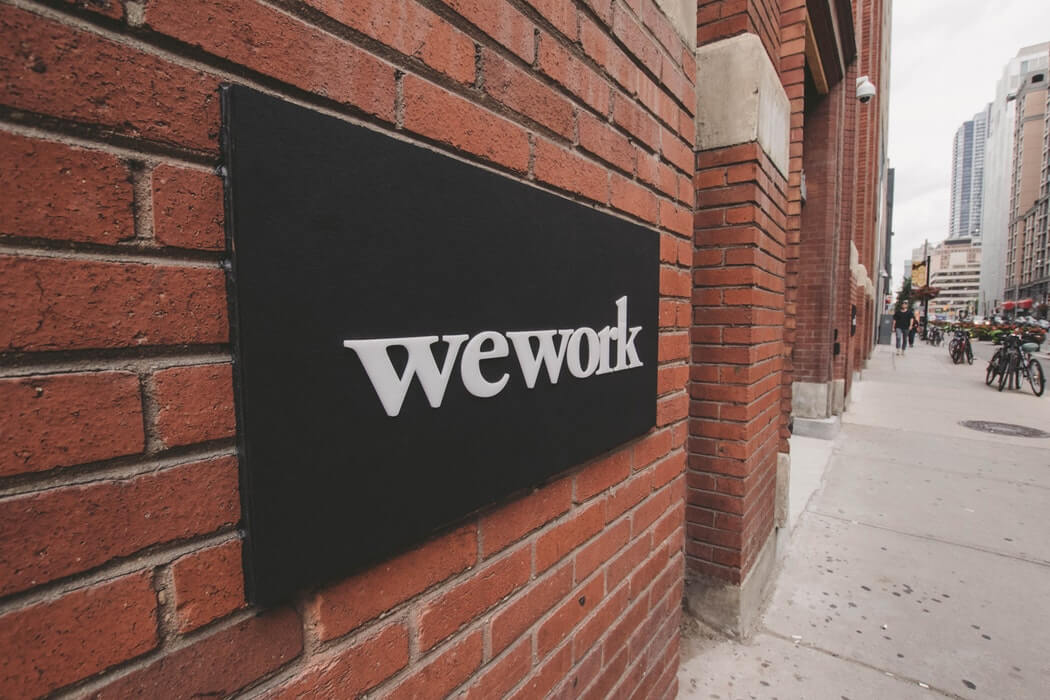wework: (336, 292, 649, 422)
